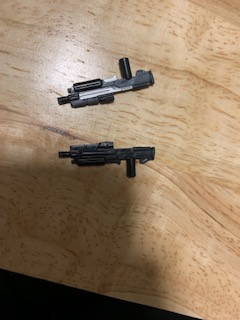rifle: (54, 56, 156, 111), (56, 139, 159, 182)
